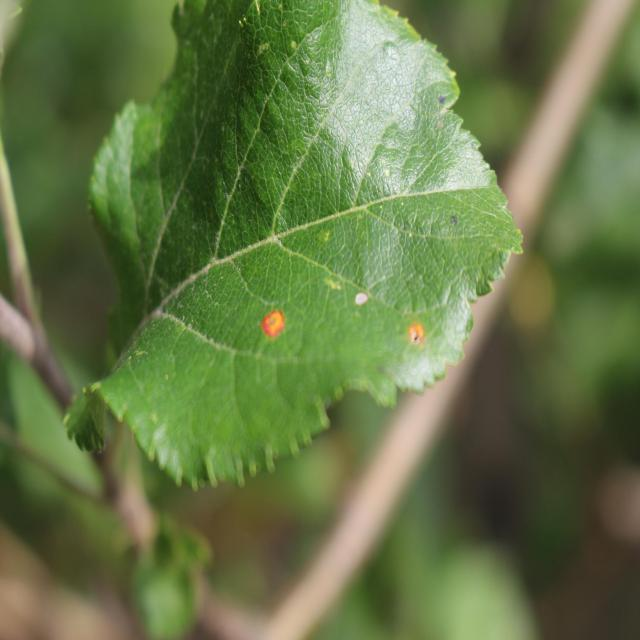rust: (61, 0, 524, 493)
